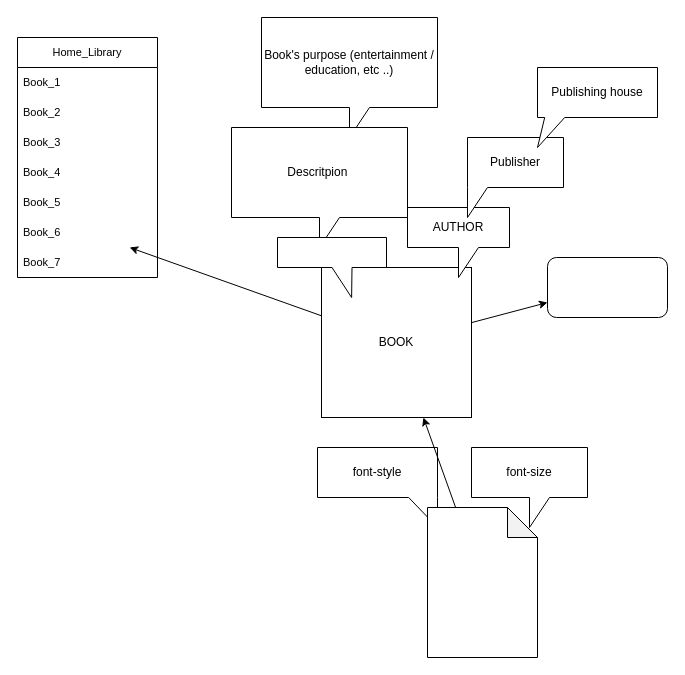
Some shapes in this 685 by 675 pixel diagram are drawn without their labels. Here are the shapes that lost their labels. From the top down, the centre of each, then its label:
point 331,267: TITEL
point 607,287: Genre
point 482,582: Page
